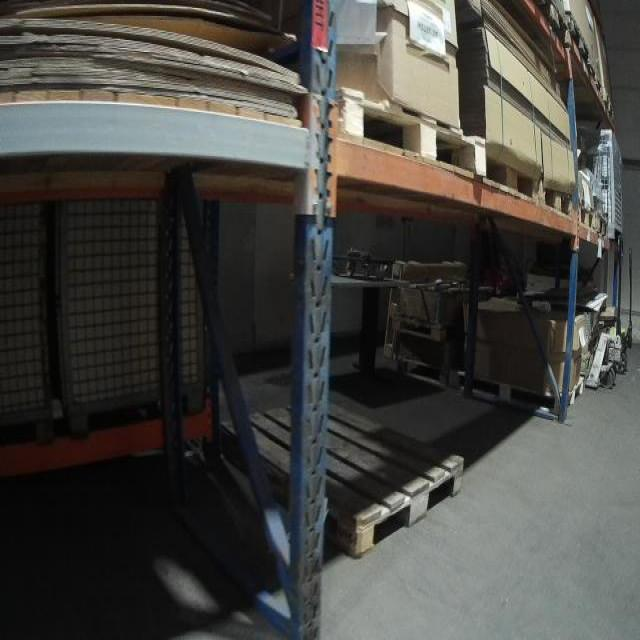pallet: (218, 396, 467, 562), (330, 86, 487, 178), (455, 371, 582, 419), (368, 337, 469, 388), (487, 149, 536, 209), (525, 2, 571, 47), (388, 315, 462, 340), (537, 173, 571, 219), (567, 12, 591, 76), (576, 197, 595, 233), (590, 50, 602, 106), (603, 85, 617, 128), (594, 211, 610, 241)
pallet_truck: (574, 227, 627, 394), (623, 244, 638, 355)
stillage: (57, 169, 220, 446), (2, 161, 54, 455), (571, 119, 630, 243)
